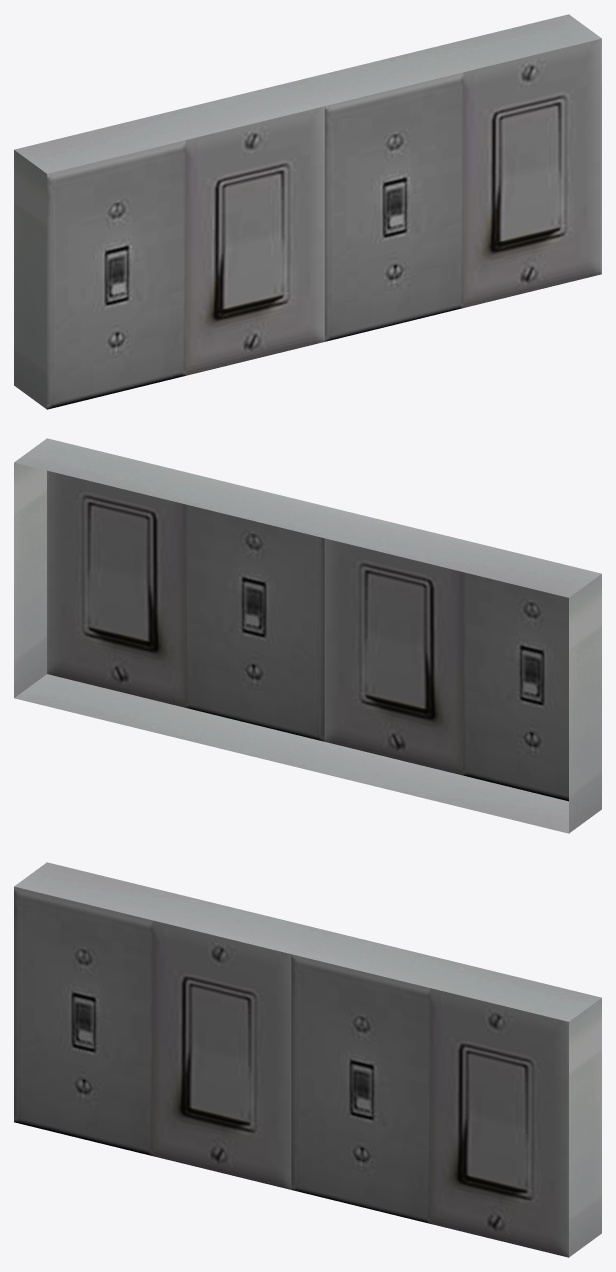
File: switch11.FBX
The picture shows the model from 3 angles, top to bottom: view 1: azimuth 30°, elevation 25°; view 2: azimuth 150°, elevation 25°; view 3: azimuth 330°, elevation 25°; orthographic projection.
Visible parts, largest first — view 1: switch11; view 2: switch11; view 3: switch11.
Boxes of the visible parts, <box> form: switch11: <box>14,14,601,409</box>; switch11: <box>14,438,601,833</box>; switch11: <box>14,862,601,1257</box>.
Bounding box in the file's own units: 4.93 × 2 × 0.509.
